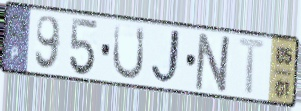5: (67, 15, 100, 79)
9: (34, 14, 63, 72)
J: (149, 28, 186, 87)
N: (192, 31, 235, 96)
T: (236, 35, 270, 98)
U: (110, 21, 147, 82)
